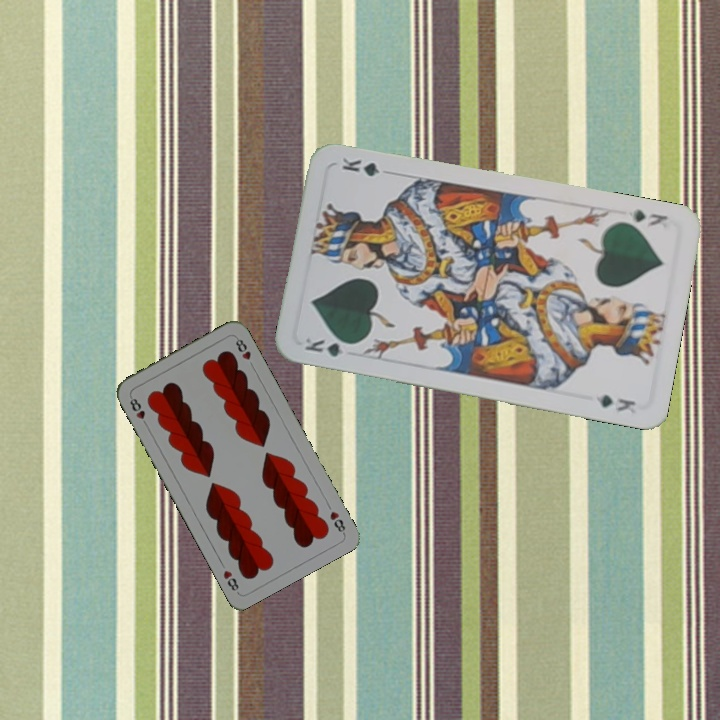GK: (301, 333, 359, 360), (623, 205, 671, 230)
H8: (125, 393, 151, 429), (326, 507, 348, 536)
